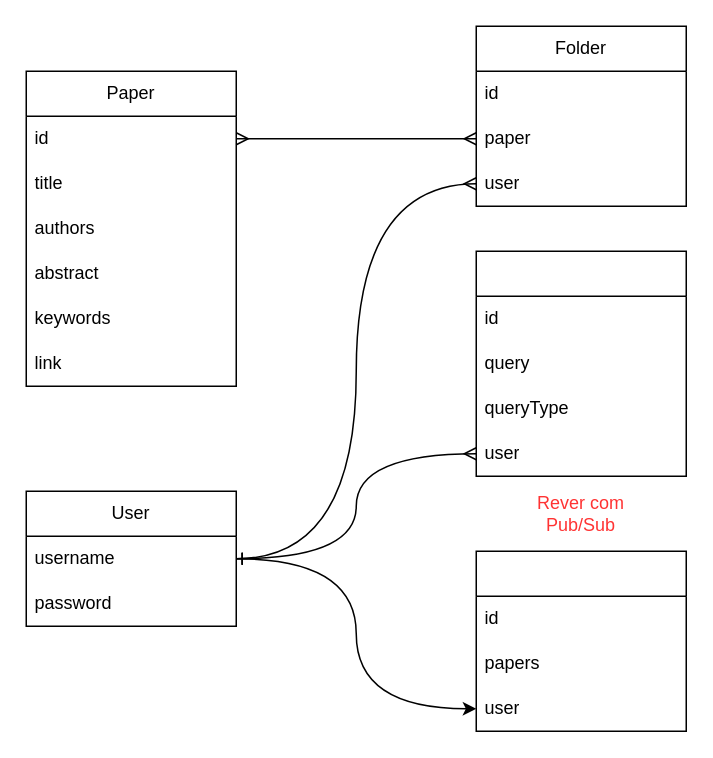
This 713x758 diagram has some shape labels left out. Each missing label, with the box of its shape:
Alert (msg): (475, 550, 686, 731)
Monitor: (475, 250, 686, 476)
